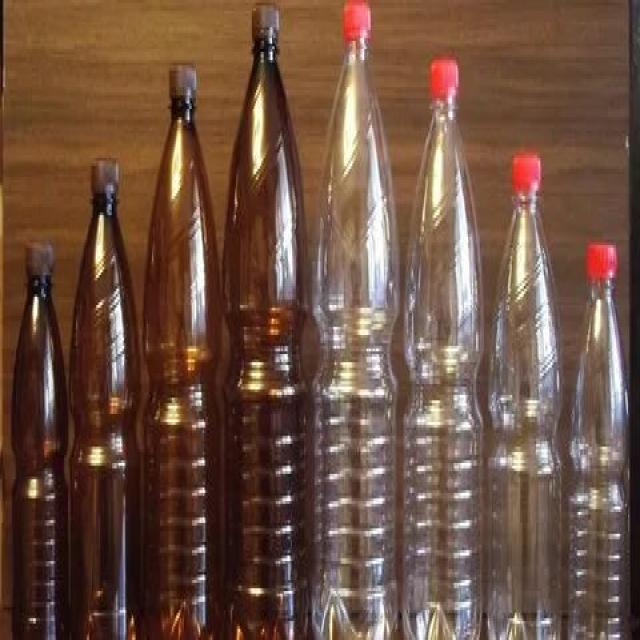brown: (226, 42, 307, 640), (146, 100, 221, 640), (69, 193, 140, 640), (12, 275, 67, 640)
